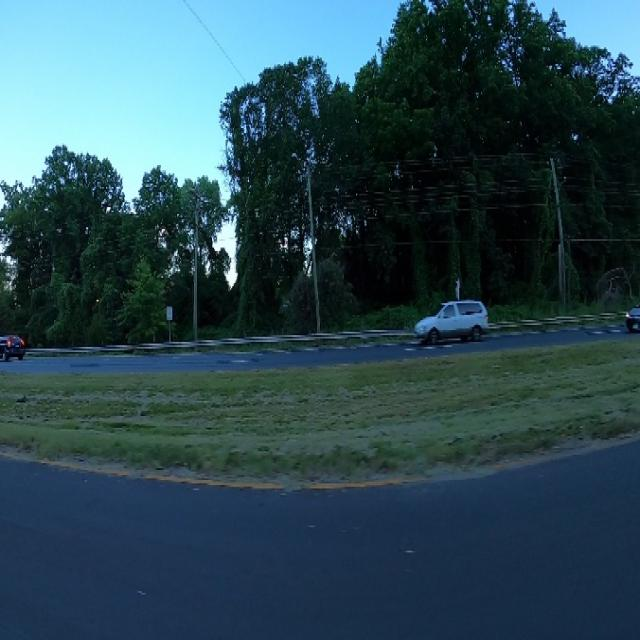car: (413, 295, 491, 342), (2, 323, 26, 364)
